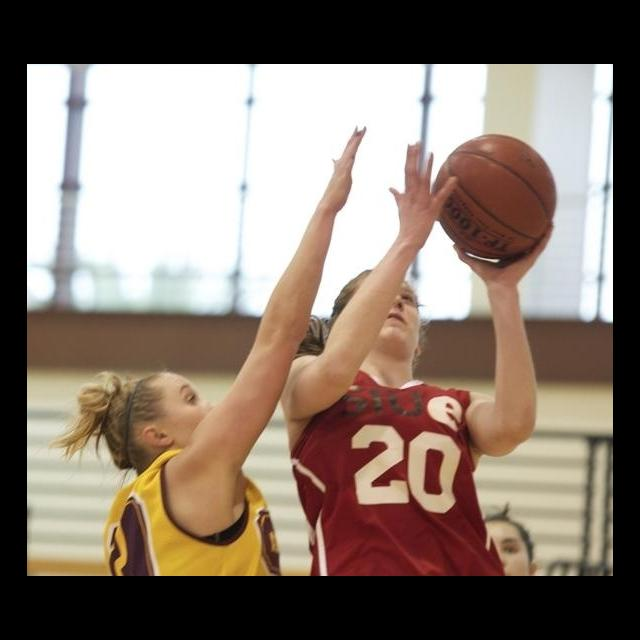basketball: (433, 133, 561, 261)
